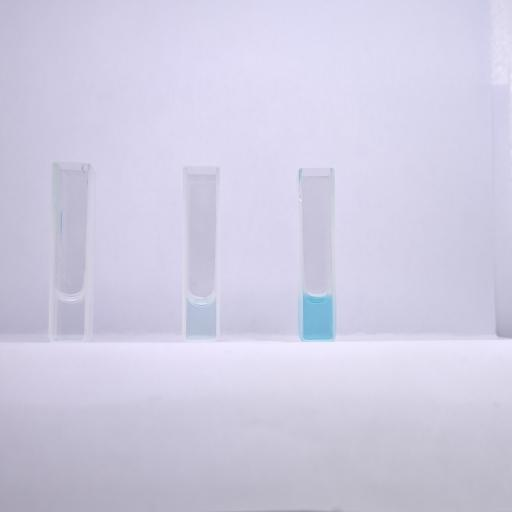cuvette: (47, 160, 95, 344), (180, 163, 222, 344), (296, 165, 338, 344)
liquid: (56, 292, 84, 339), (186, 296, 216, 337), (305, 294, 332, 337)
